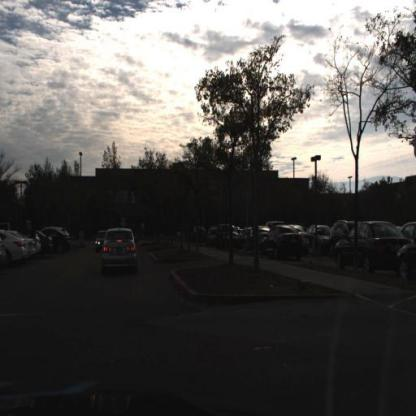car: (333, 218, 401, 274), (98, 218, 148, 284), (261, 222, 304, 264), (1, 231, 38, 267), (395, 235, 416, 285), (33, 227, 70, 253), (215, 222, 245, 253), (243, 225, 266, 257), (332, 219, 350, 244), (308, 222, 331, 240), (95, 229, 107, 256)
